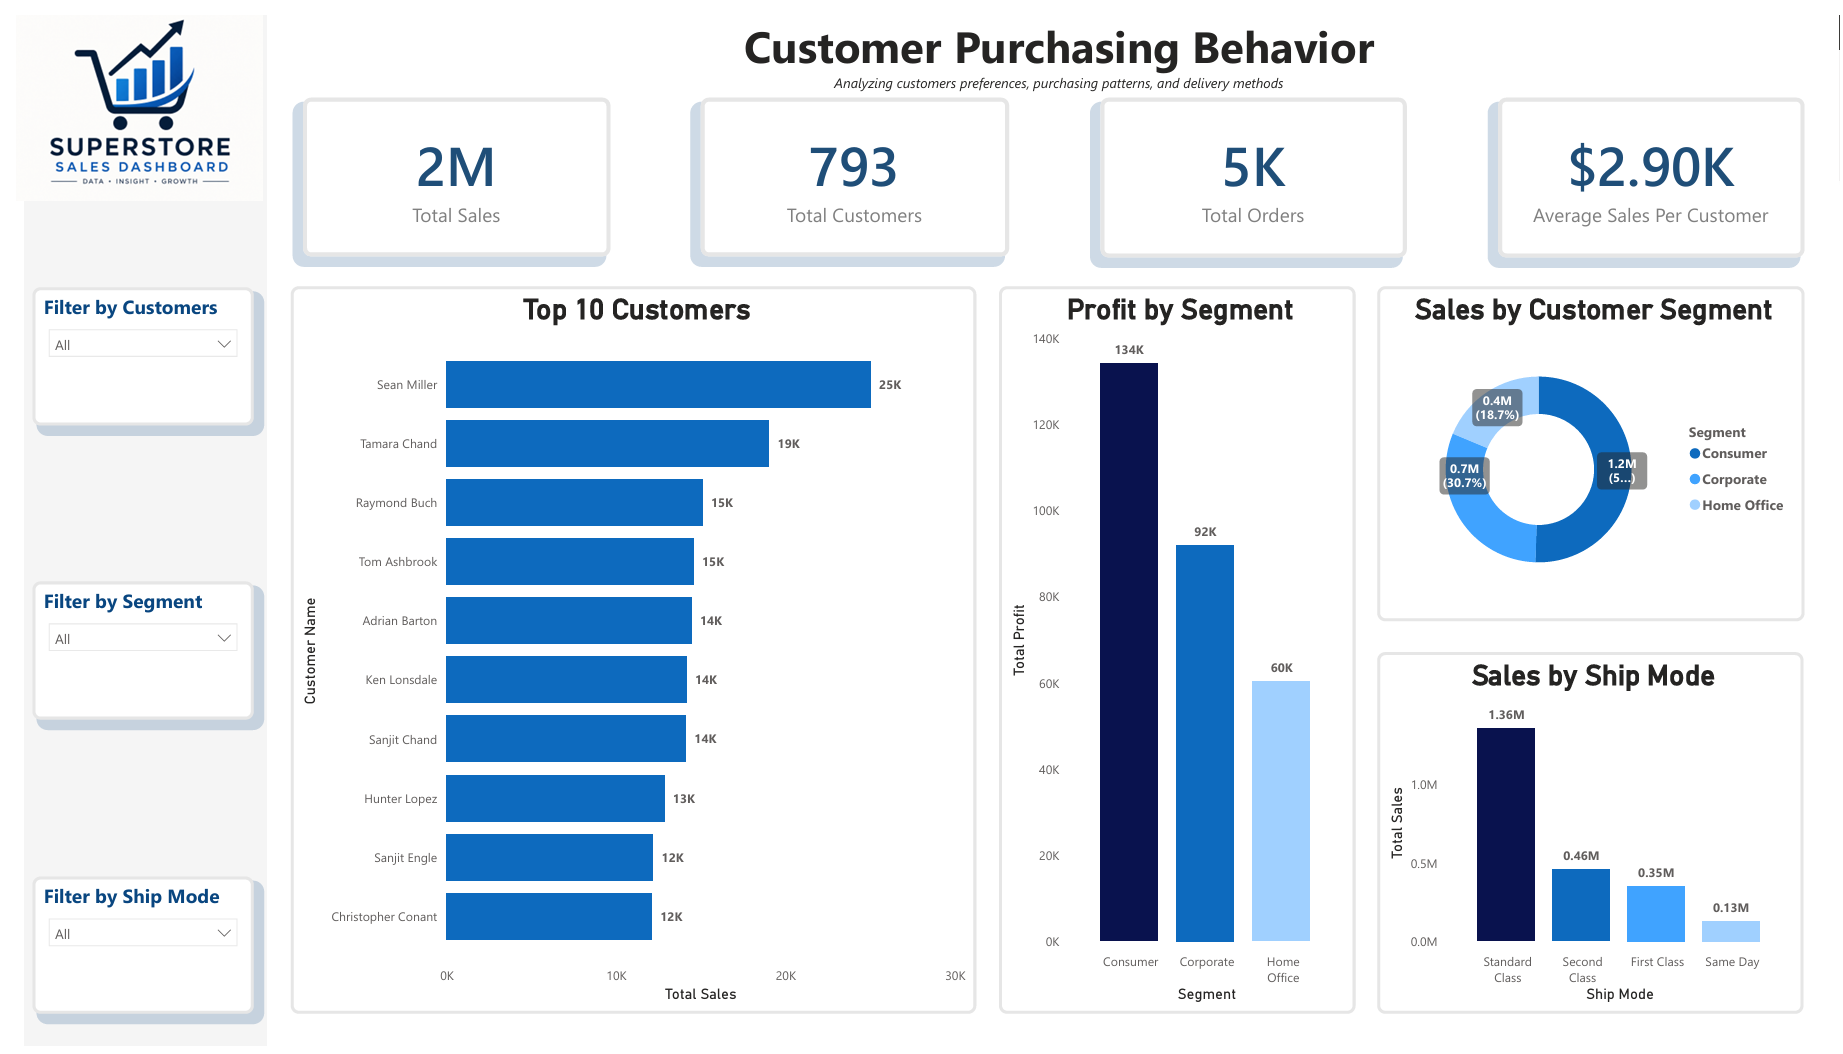

What the dashboard file says about the page in this screenshot:
{"tool":"powerbi","page":{"name":"Customer Analysis","canvas":[1779,1007],"ordinal":2},"visuals":[{"type":"textbox","box":[10,0,280,280],"z":0},{"type":"cardVisual","fields":{"Data":["Sample - Superstore.Total Sales"]},"box":[254.9,87.1,300.9,140.9],"z":1000},{"type":"shape","box":[0,0,1780.5,1006.9],"z":2000},{"type":"cardVisual","fields":{"Data":["Sample - Superstore.Total Orders"]},"box":[446.2,393.5,296.7,141],"z":3000},{"type":"cardVisual","fields":{"Data":["Sample - Superstore.Total Profit"]},"box":[492.5,393.5,298.8,141],"z":4000},{"type":"donutChart","title":" Sales by Customer Segment","fields":{"Category":["Sample - Superstore.Segment"],"Y":["Sample - Superstore.Total Sales"]},"box":[1328.4,264.4,416.4,326.2],"z":5000},{"type":"cardVisual","fields":{"Data":["Sample - Superstore.Total Customers"]},"box":[431.4,362,296.7,141],"z":6000},{"type":"barChart","title":"Top 10 Customers ","fields":{"Category":["Sample - Superstore.Customer Name"],"Y":["Sample - Superstore.Total Sales"]},"box":[267.6,264.4,669.8,709.3],"z":7000},{"type":"clusteredColumnChart","title":"Sales by Ship Mode","fields":{"Category":["Sample - Superstore.Ship Mode"],"Y":["Sample - Superstore.Total Sales"]},"box":[1328,620.9,416.3,353.5],"z":8000},{"type":"clusteredColumnChart","title":"Profit by Segment","fields":{"Category":["Sample - Superstore.Segment"],"Y":["Sample - Superstore.Total Profit"]},"box":[958.7,264.4,348.3,709.3],"z":9000},{"type":"textbox","box":[254.9,0,1524.8,102.9],"z":10000},{"type":"cardVisual","fields":{"Data":["Sample - Superstore.Total Sales"]},"box":[280.2,80,299.2,155.2],"z":11000},{"type":"cardVisual","fields":{"Data":["Sample - Superstore.Total Customers"]},"box":[668.3,79.6,300.9,155.7],"z":12000},{"type":"cardVisual","fields":{"Data":["Sample - Superstore.Total Orders"]},"box":[1058.1,79.8,298.8,155.7],"z":13000},{"type":"cardVisual","fields":{"Data":["Sample - Superstore.Average Sales Per Customer"]},"box":[1445.8,80,298.8,155.7],"z":14000},{"type":"shape","box":[7.6,0,237.8,1006],"z":15000},{"type":"slicer","title":"Filter by Customers","fields":{"Values":["Sample - Superstore.Customer Name"]},"box":[15.7,265.2,216.8,134.7],"z":16000},{"type":"slicer","title":"Filter by Segment","fields":{"Values":["Sample - Superstore.Segment"]},"box":[15.5,552.5,216.9,134.6],"z":17000},{"type":"slicer","title":"Filter by Ship Mode","fields":{"Values":["Sample - Superstore.Ship Mode"]},"box":[15.7,839.7,216.8,134.7],"z":18000},{"type":"image","box":[0,0,239.9,181],"z":19000}]}

Visuals, with their boxes in screenshot pixels (x1, y1, x2, y2), scaled from the page's 1779x1007 canvas onto the 1843x1054 screenshot:
textbox: select_region(10, 0, 300, 293)
cardVisual - Sample - Superstore.Total Sales: select_region(264, 91, 576, 239)
shape: select_region(0, 0, 1842, 1053)
cardVisual - Sample - Superstore.Total Orders: select_region(462, 412, 770, 559)
cardVisual - Sample - Superstore.Total Profit: select_region(510, 412, 820, 559)
" Sales by Customer Segment" donutChart: select_region(1376, 277, 1808, 618)
cardVisual - Sample - Superstore.Total Customers: select_region(447, 379, 754, 526)
"Top 10 Customers " barChart: select_region(277, 277, 971, 1019)
"Sales by Ship Mode" clusteredColumnChart: select_region(1376, 650, 1807, 1020)
"Profit by Segment" clusteredColumnChart: select_region(993, 277, 1354, 1019)
textbox: select_region(264, 0, 1842, 108)
cardVisual - Sample - Superstore.Total Sales: select_region(290, 84, 600, 246)
cardVisual - Sample - Superstore.Total Customers: select_region(692, 83, 1004, 246)
cardVisual - Sample - Superstore.Total Orders: select_region(1096, 84, 1406, 246)
cardVisual - Sample - Superstore.Average Sales Per Customer: select_region(1498, 84, 1807, 247)
shape: select_region(8, 0, 254, 1053)
"Filter by Customers" slicer: select_region(16, 278, 241, 419)
"Filter by Segment" slicer: select_region(16, 578, 241, 719)
"Filter by Ship Mode" slicer: select_region(16, 879, 241, 1020)
image: select_region(0, 0, 249, 189)
